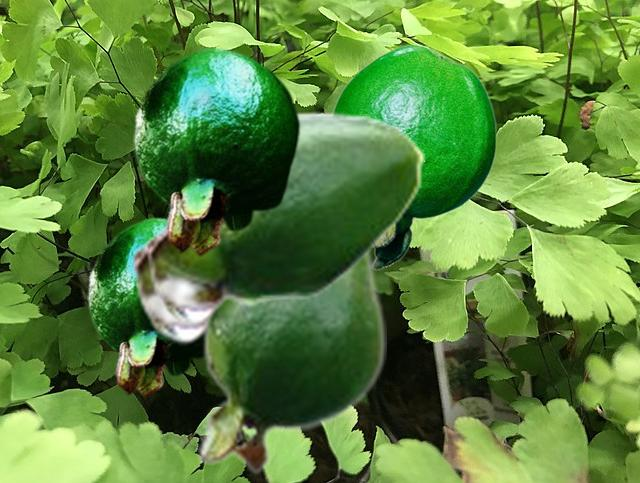guava: (145, 110, 425, 325), (197, 251, 385, 475), (333, 44, 496, 269), (131, 219, 421, 344), (133, 46, 300, 256), (87, 216, 201, 397)
